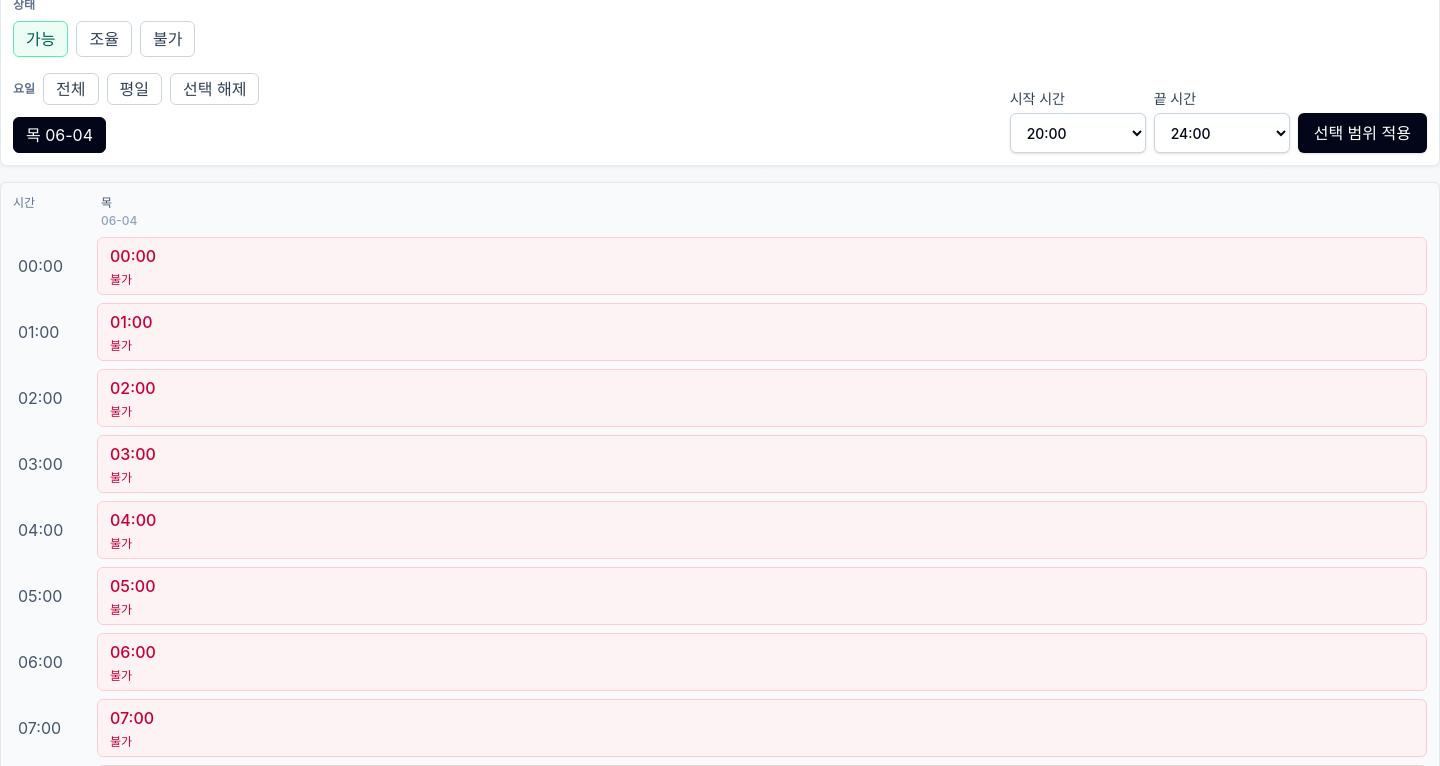
Test: AvailabilityGrid › selects a time cell with the current status
This screenshot has width=1440, height=766.
What coordinates should you click on to do the following:
click the button "가능"
I would click on:
 (41, 39)
Its box is [13,21,68,57].
(page scrolled)
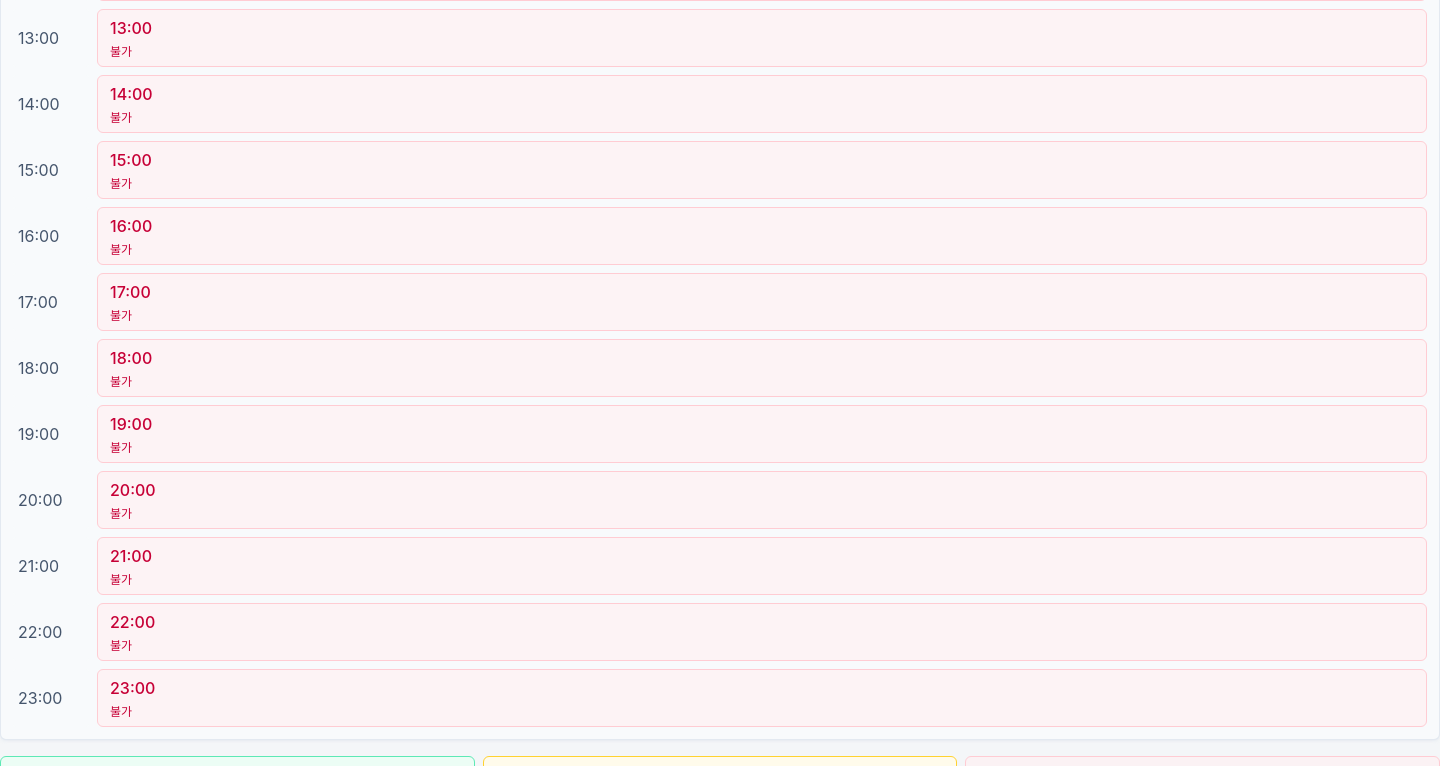
What coordinates should you click on to do the following:
click the button "20:00 불가"
I would click on:
 (133, 490)
Its box is [97,471,1427,529].
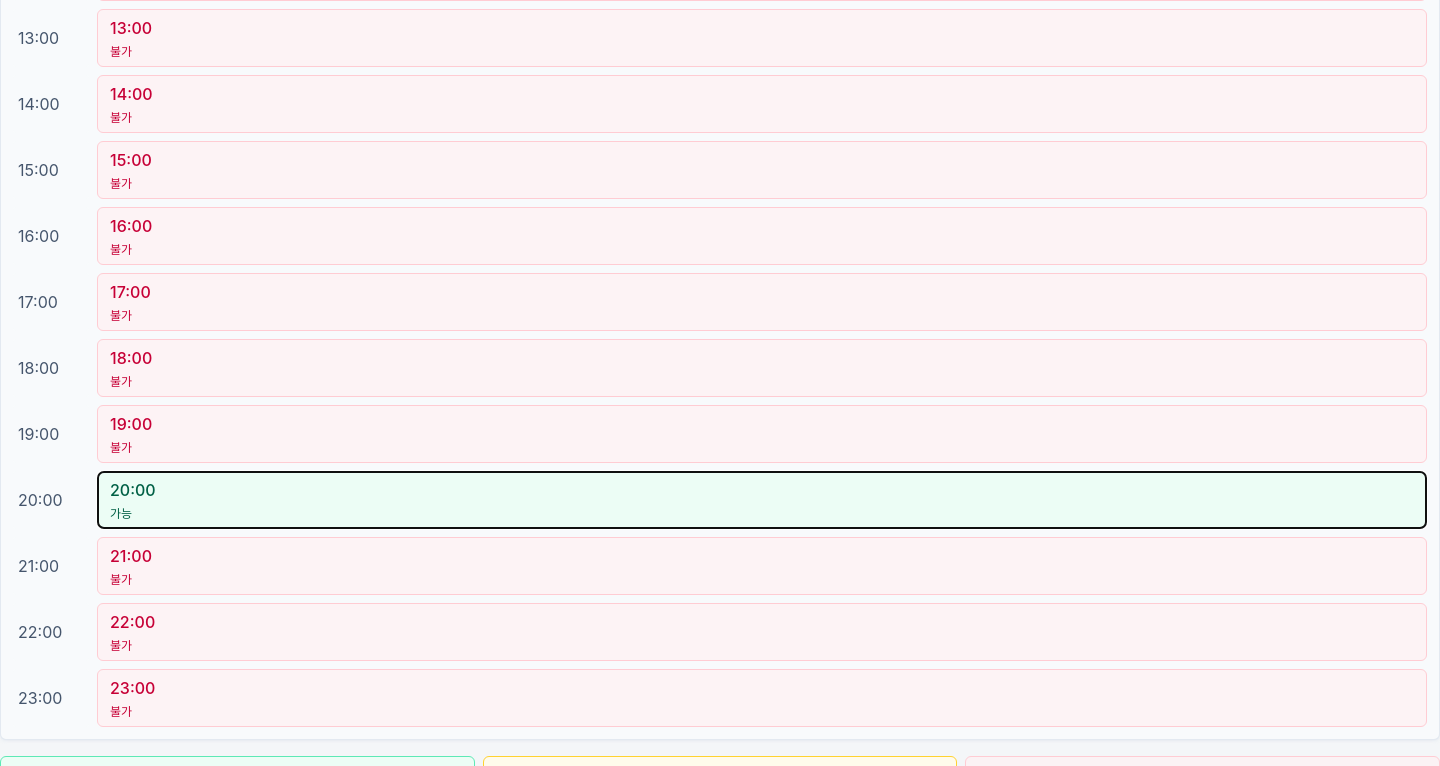
Expected: the button "20:00 가능" is shown, [97,471,1427,529]
